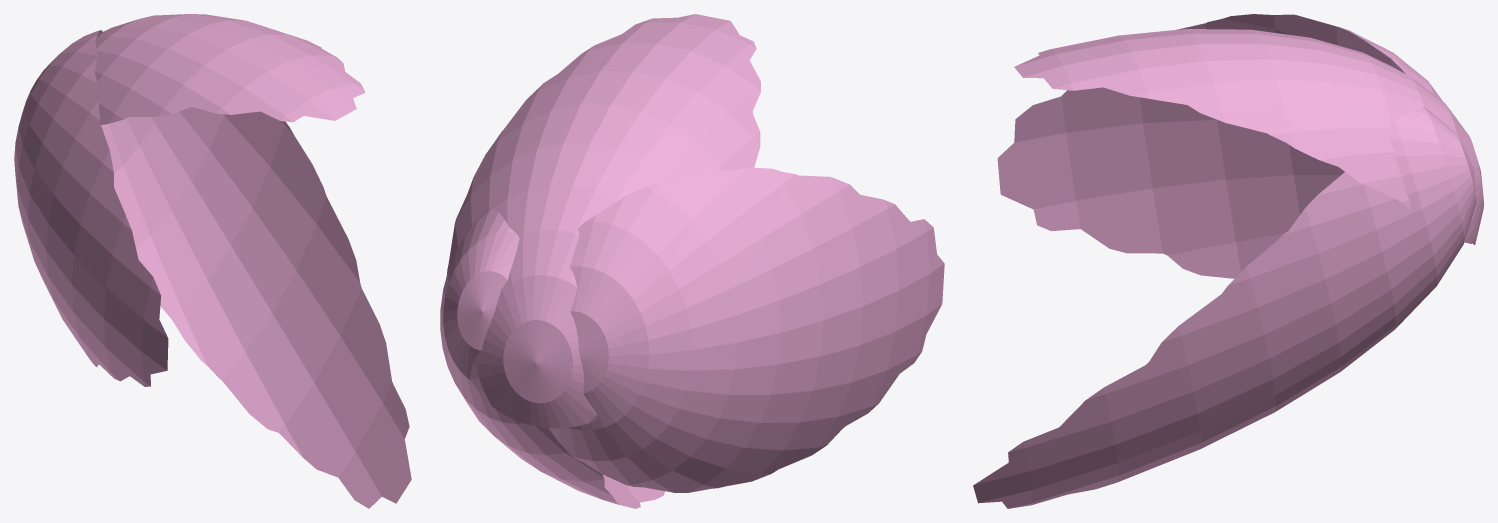
Rendered from tinker.obj.
3 renders of one model, left to right at view 1: azimuth 30°, elevation 25°; view 2: azimuth 150°, elevation 25°; view 3: azimuth 270°, elevation 25°, orthographic. The views are drawn at different scales.
Visible parts, largest first — view 1: obj_0; view 2: obj_0; view 3: obj_0.
Boxes of the visible parts, x1=… form: obj_0: x1=14, y1=14, x2=411, y2=508; obj_0: x1=440, y1=14, x2=944, y2=508; obj_0: x1=973, y1=14, x2=1483, y2=508.
Bounding box in the file's own units: 17.5 × 25 × 25.9.
